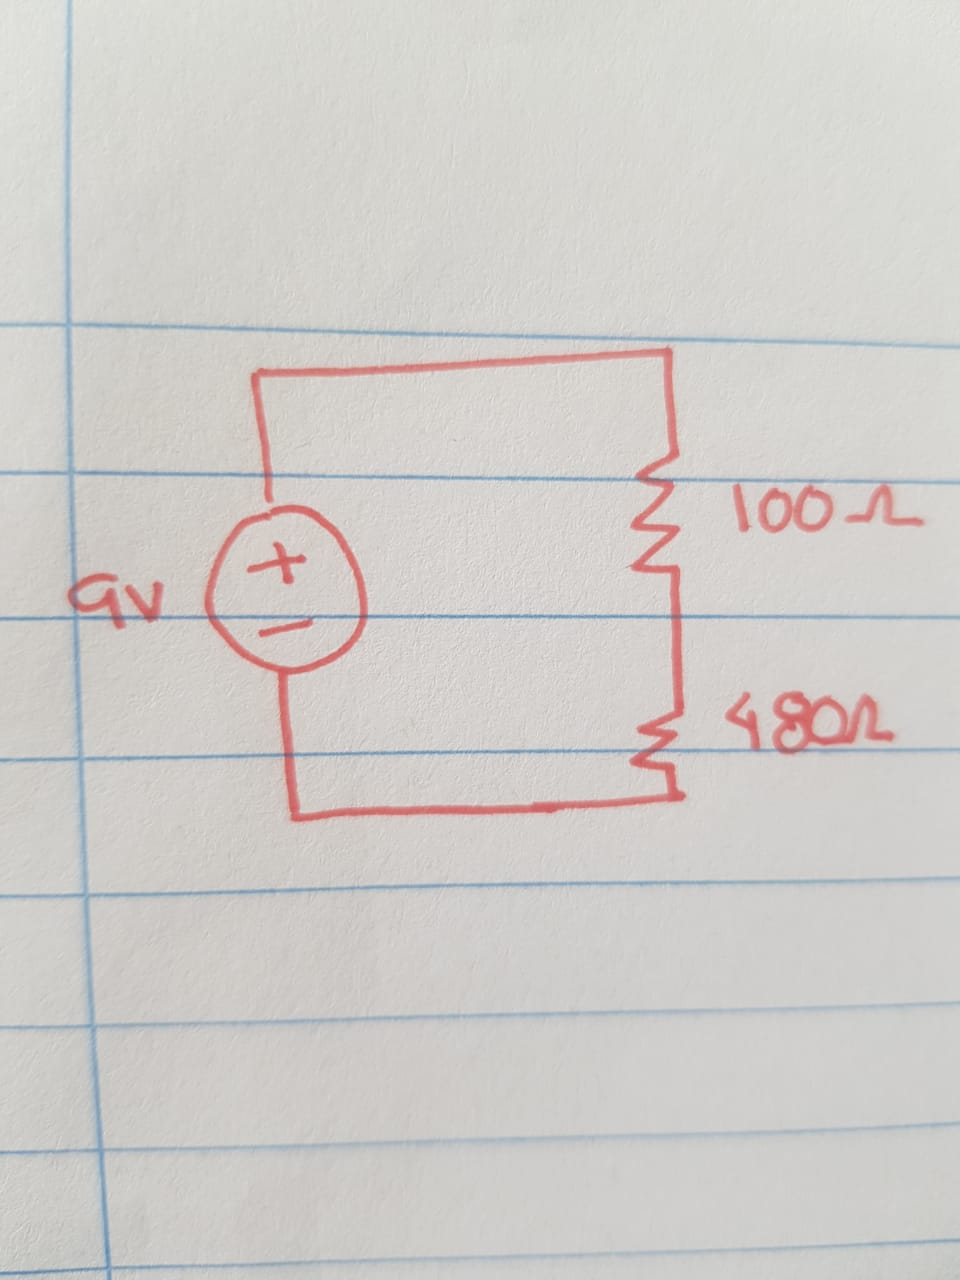junction: (276, 789, 319, 840), (237, 354, 278, 397), (639, 336, 680, 377), (658, 784, 690, 809)
resistor: (624, 443, 697, 585), (622, 706, 689, 771)
text: (717, 468, 929, 540), (713, 681, 905, 754), (58, 554, 176, 636)
voltage.dc: (195, 499, 373, 681)
